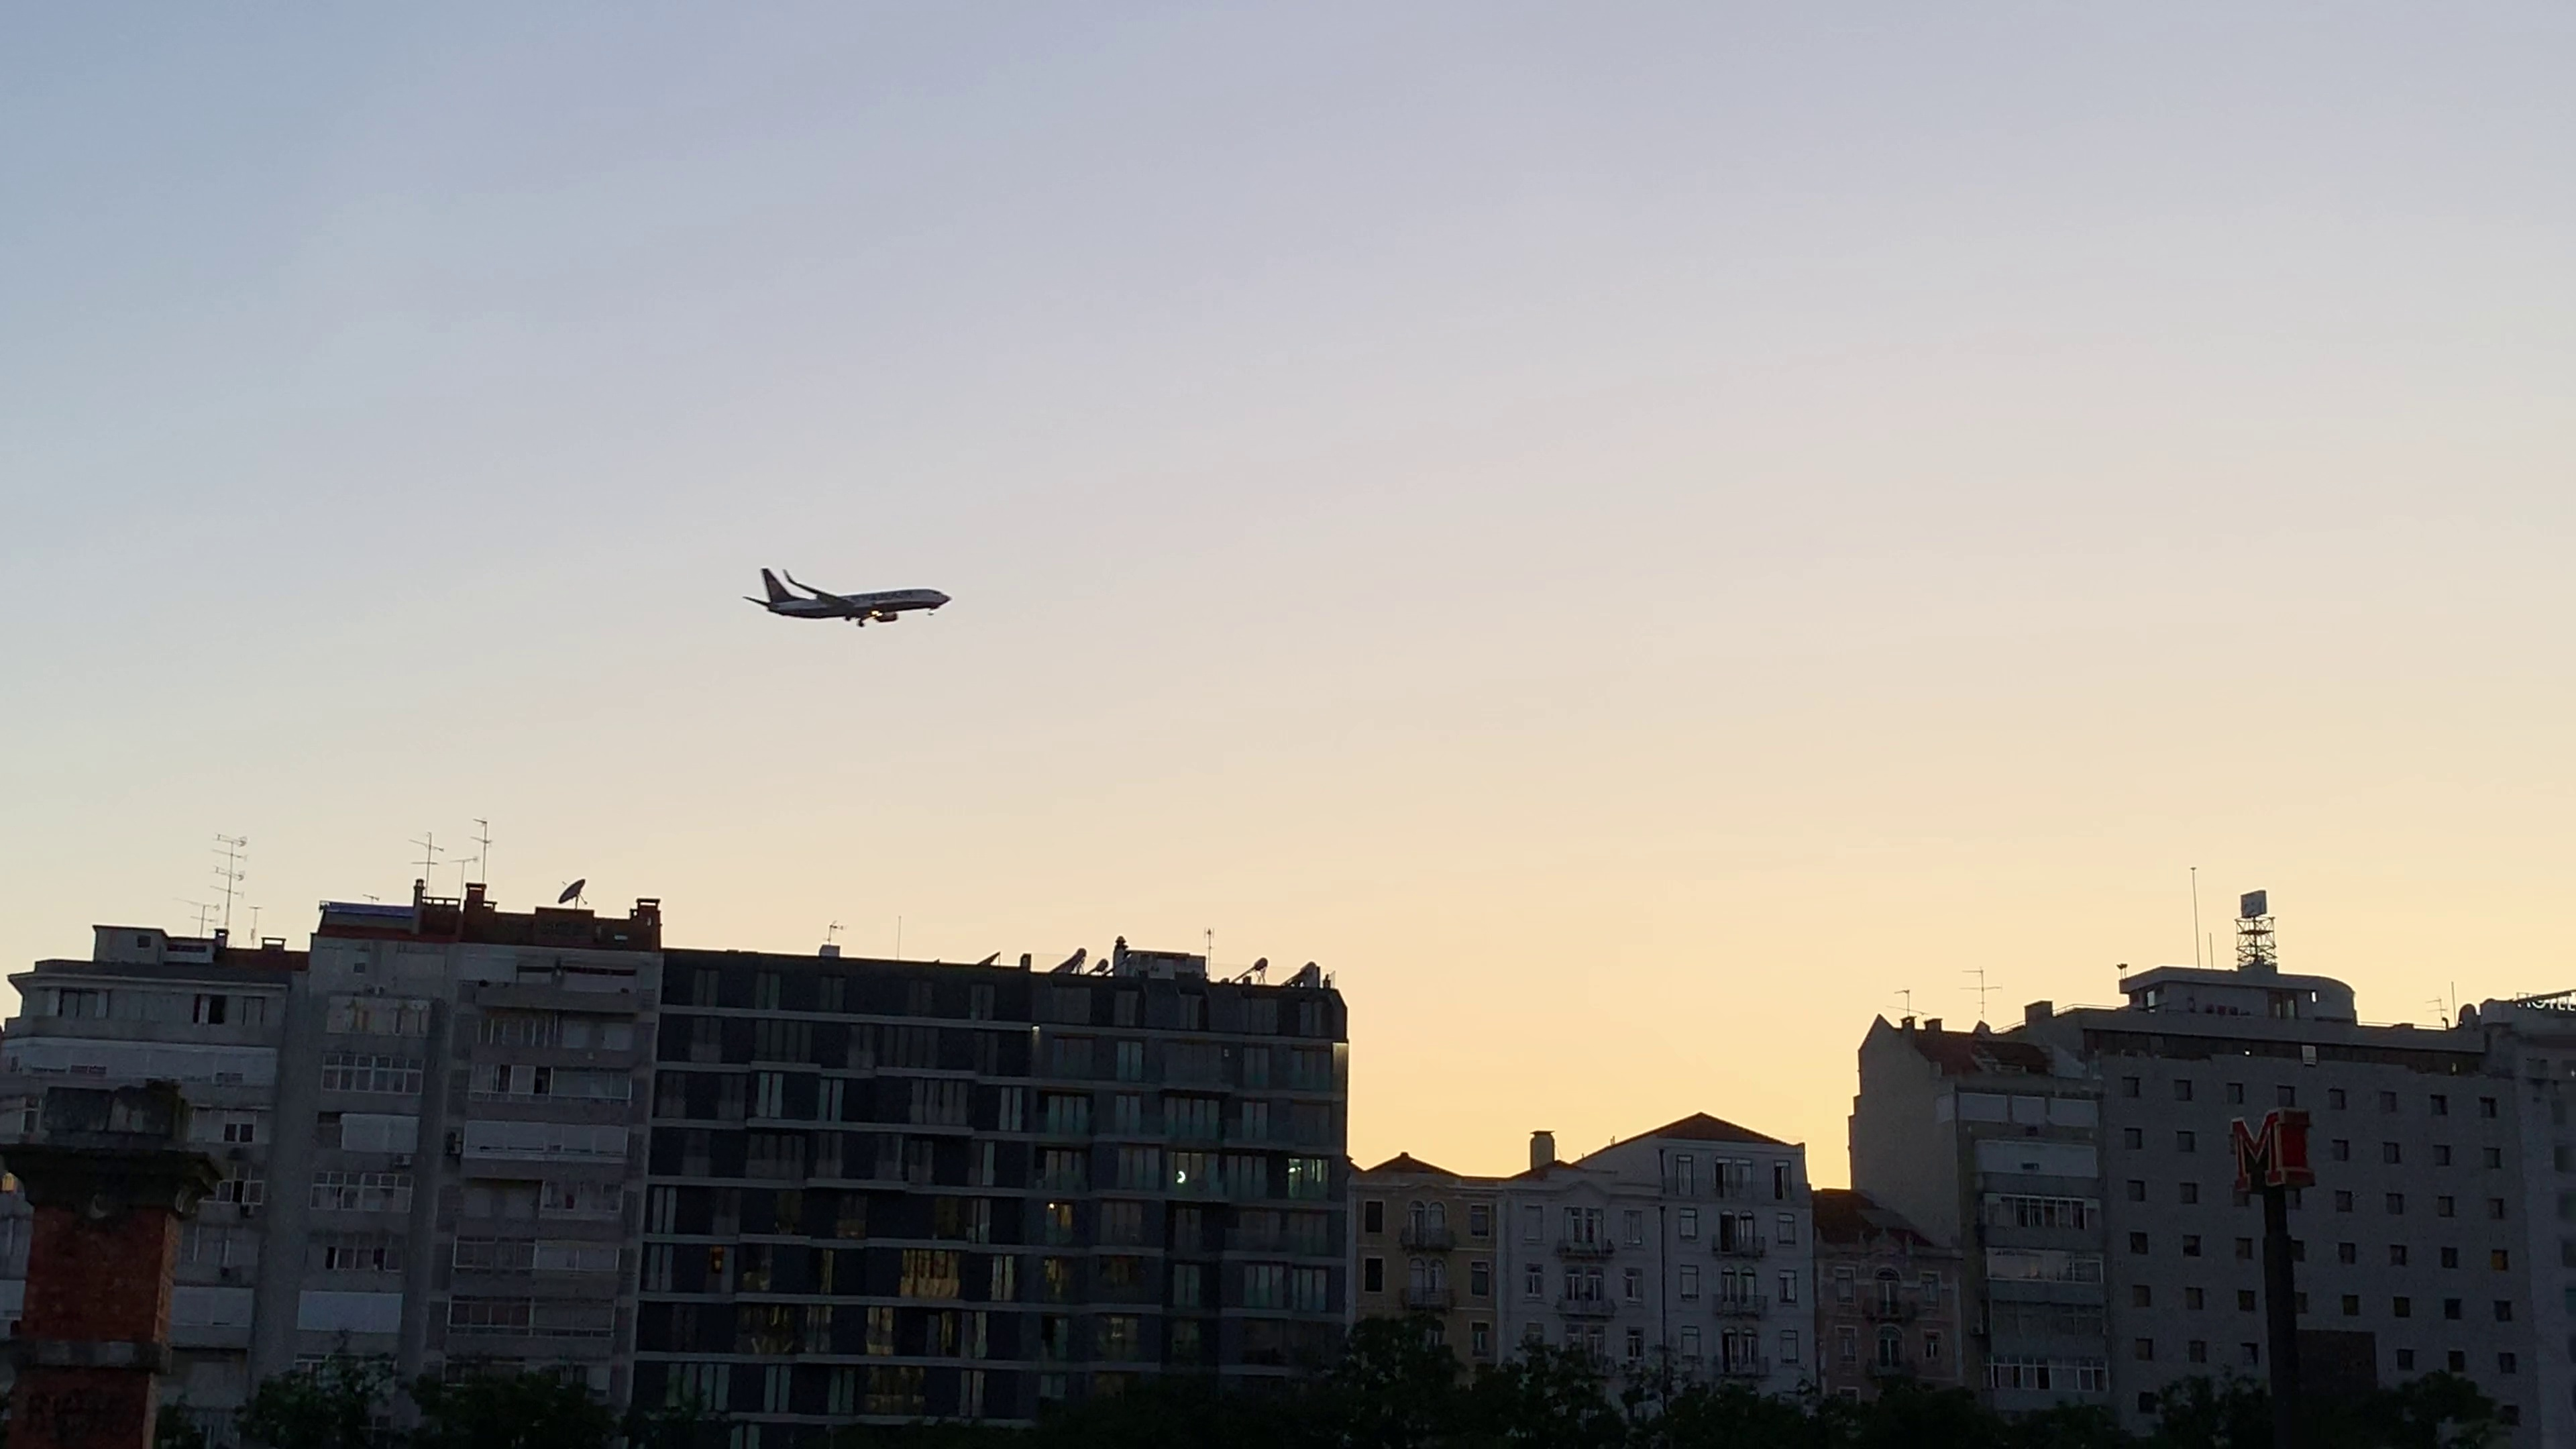plane: (743, 564, 952, 630)
